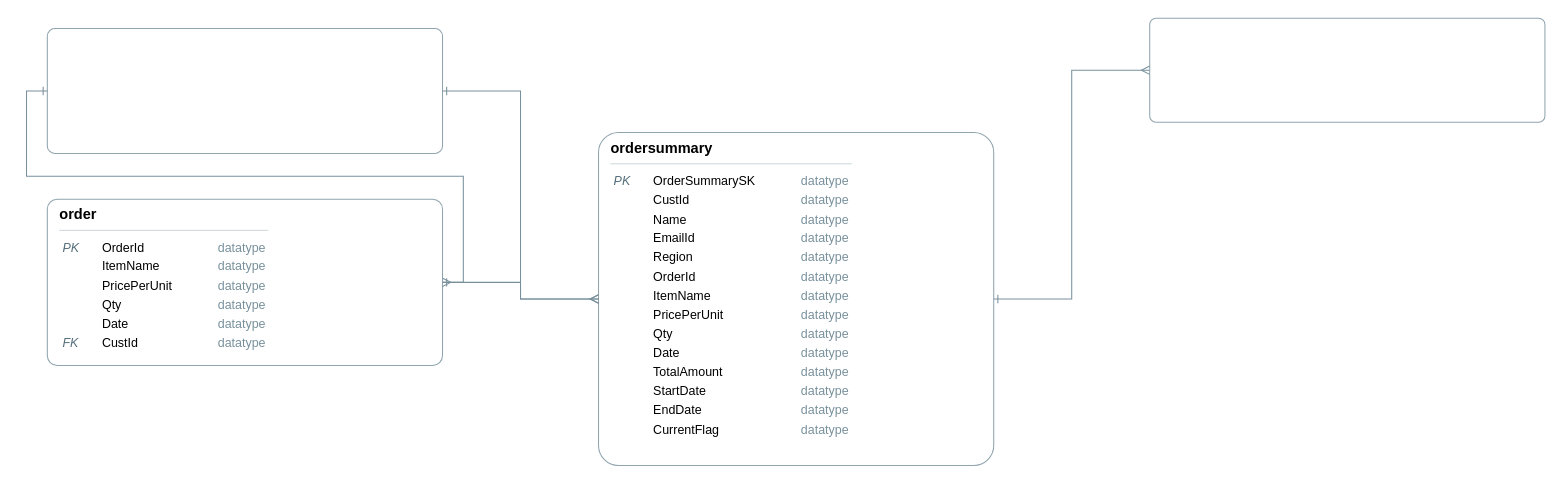
Image size: 1563x484. Some labels were removed from this diagram. Each missing label, with the centre of its shape:
"customer PK CustId datatype Name datatype EmailId datatype Region datatype" belongs at [244,90].
"customeraggregatespend PK Name datatype PK Date datatype TotalAmount datatype" belongs at [1347,69].
